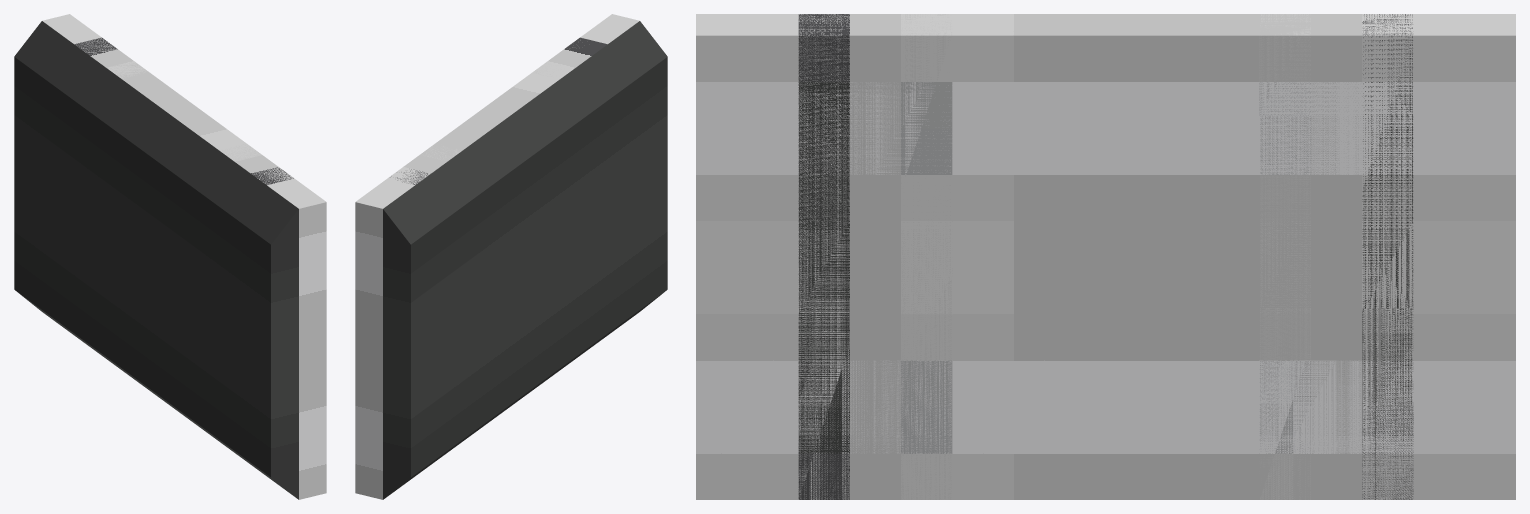
The model's file is fluorescent_lamp.obj.
3 views of the same model, side by side, from view 1: azimuth 30°, elevation 25°; view 2: azimuth 150°, elevation 25°; view 3: azimuth 270°, elevation 25° (orthographic). The views are drawn at different scales.
Visible parts, largest first — view 1: FluoroCap, FluoroSingle, FluoroMid; view 2: FluoroMid, FluoroCap, FluoroSingle; view 3: FluoroCap, FluoroMid, FluoroSingle.
Part boxes in pixels (x1,y1,x2,y2): FluoroCap: (14, 14, 293, 453); FluoroSingle: (46, 37, 238, 452); FluoroMid: (14, 58, 326, 499); FluoroMid: (411, 14, 667, 476); FluoroCap: (355, 37, 613, 499); FluoroSingle: (390, 144, 505, 309); FluoroCap: (798, 14, 1515, 499); FluoroMid: (696, 14, 952, 499); FluoroSingle: (1259, 14, 1413, 499).
Bounding box in the file's own units: 0.125 × 0.625 × 1.
